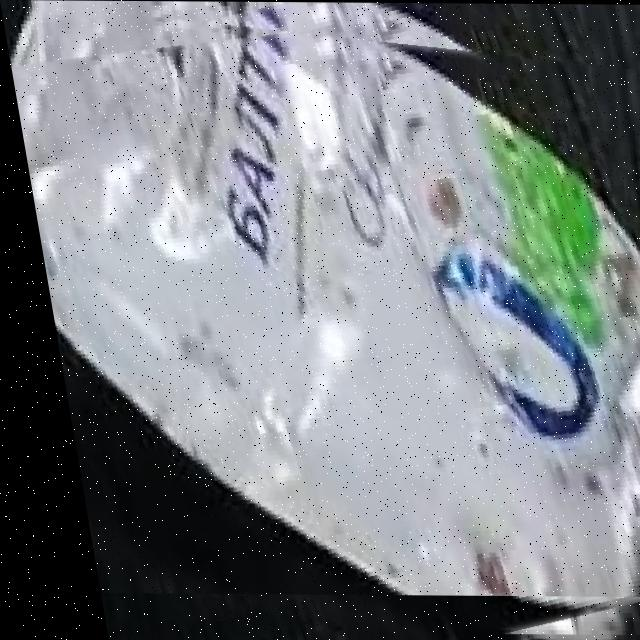can: (9, 25, 640, 596)
